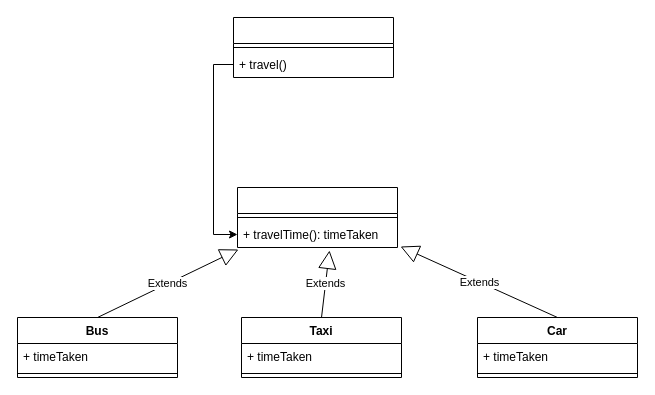
Image size: 655x395. Some labels were removed from this diagram. The box of each missing label's shape, as (x1, y1, x2, y2) in pixels:
Commute: (232, 16, 394, 78)
Vehicle: (236, 186, 398, 248)
